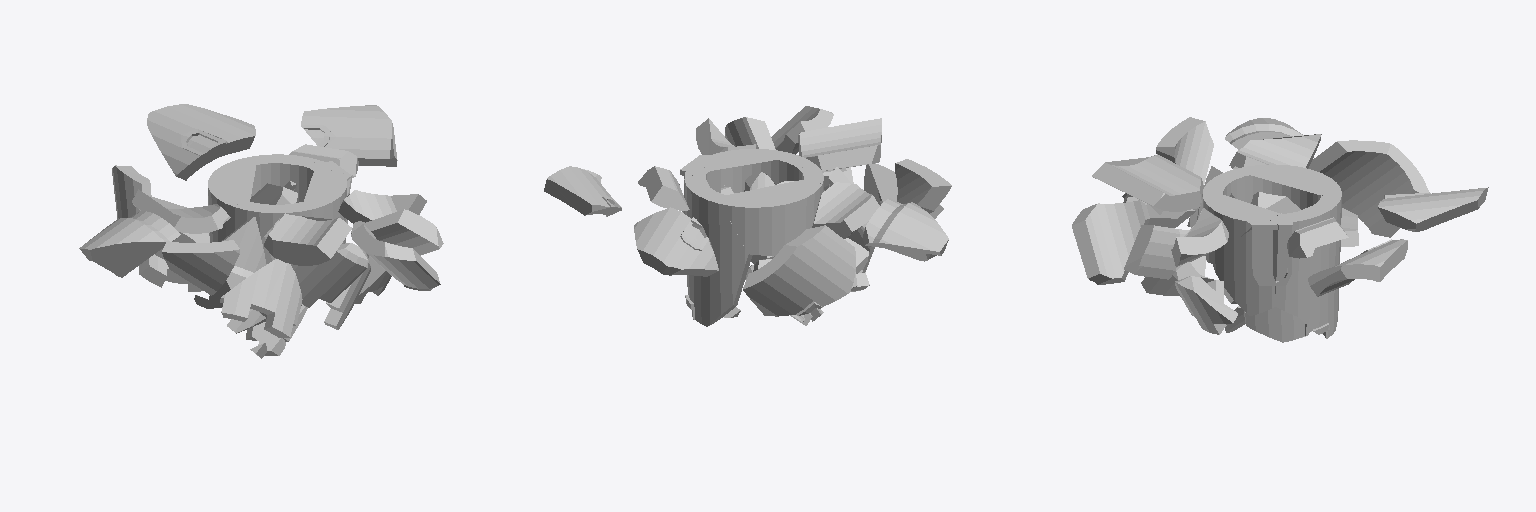
Rendered from destruction_tower_000055.obj.
The picture shows the model from 3 angles: view 1: azimuth 30°, elevation 25°; view 2: azimuth 150°, elevation 25°; view 3: azimuth 270°, elevation 25°; orthographic projection.
Visible parts, largest first — view 1: tower.001_cell.025_Mesh.025, tower.001_cell.012_Mesh.012, tower.001_cell.006_Mesh.006, tower.001_cell.005_Mesh.005, tower.001_cell.024_Mesh.024, tower.001_cell.002_Mesh.002, tower.001_cell.011_Mesh.011, tower.001_cell.021_Mesh.021, tower.001_cell_Mesh, tower.001_cell.015_Mesh.015, tower.001_cell.028_Mesh.028, tower.001_cell.009_Mesh.009 (+12 smaller); view 2: tower.001_cell.003_Mesh.003, tower.001_cell.017_Mesh.017, tower.001_cell.015_Mesh.015, tower.001_cell.025_Mesh.025, tower.001_cell.005_Mesh.005, tower.001_cell.024_Mesh.024, tower.001_cell.028_Mesh.028, tower.001_cell.009_Mesh.009, tower.001_cell.012_Mesh.012, tower.001_cell.002_Mesh.002, tower.001_cell.021_Mesh.021, tower.001_cell.016_Mesh.016 (+4 smaller); view 3: tower.001_cell.003_Mesh.003, tower.001_cell.021_Mesh.021, tower.001_cell.020_Mesh.020, tower.001_cell.024_Mesh.024, tower.001_cell.017_Mesh.017, tower.001_cell.025_Mesh.025, tower.001_cell.015_Mesh.015, tower.001_cell.012_Mesh.012, tower.001_cell.028_Mesh.028, tower.001_cell_Mesh, tower.001_cell.002_Mesh.002, tower.001_cell.009_Mesh.009 (+11 smaller).
Part boxes in pixels (x1,y1,x2,y2): tower.001_cell.025_Mesh.025: (147, 104, 255, 180); tower.001_cell.012_Mesh.012: (301, 105, 397, 166); tower.001_cell.006_Mesh.006: (220, 259, 302, 337); tower.001_cell.005_Mesh.005: (79, 211, 180, 277); tower.001_cell.024_Mesh.024: (264, 213, 351, 265); tower.001_cell.002_Mesh.002: (162, 240, 239, 295); tower.001_cell.011_Mesh.011: (291, 243, 368, 307); tower.001_cell.021_Mesh.021: (351, 224, 440, 290); tower.001_cell_Mesh: (351, 209, 443, 255); tower.001_cell.015_Mesh.015: (208, 159, 255, 242); tower.001_cell.028_Mesh.028: (274, 171, 351, 220); tower.001_cell.009_Mesh.009: (132, 189, 230, 233); tower.001_cell.003_Mesh.003: (743, 225, 855, 316); tower.001_cell.017_Mesh.017: (684, 174, 752, 326); tower.001_cell.015_Mesh.015: (722, 180, 821, 255); tower.001_cell.025_Mesh.025: (634, 207, 718, 276); tower.001_cell.005_Mesh.005: (863, 198, 948, 261); tower.001_cell.024_Mesh.024: (798, 118, 881, 172); tower.001_cell.028_Mesh.028: (699, 149, 812, 193); tower.001_cell.009_Mesh.009: (812, 182, 879, 238); tower.001_cell.012_Mesh.012: (544, 166, 621, 216); tower.001_cell.002_Mesh.002: (895, 159, 951, 213); tower.001_cell.021_Mesh.021: (771, 106, 833, 154); tower.001_cell.016_Mesh.016: (638, 166, 689, 210); tower.001_cell.003_Mesh.003: (1308, 140, 1428, 237); tower.001_cell.021_Mesh.021: (1072, 200, 1149, 284); tower.001_cell.020_Mesh.020: (1213, 220, 1277, 315); tower.001_cell.024_Mesh.024: (1092, 154, 1203, 211); tower.001_cell.017_Mesh.017: (1298, 193, 1341, 338); tower.001_cell.025_Mesh.025: (1378, 187, 1488, 231); tower.001_cell.015_Mesh.015: (1250, 164, 1341, 209); tower.001_cell.012_Mesh.012: (1308, 239, 1407, 296); tower.001_cell.028_Mesh.028: (1202, 180, 1279, 263); tower.001_cell_Mesh: (1124, 225, 1189, 279); tower.001_cell.002_Mesh.002: (1156, 117, 1213, 184); tower.001_cell.009_Mesh.009: (1229, 134, 1321, 168).
Size of the model in its own units: 123 by 54.42 by 128.